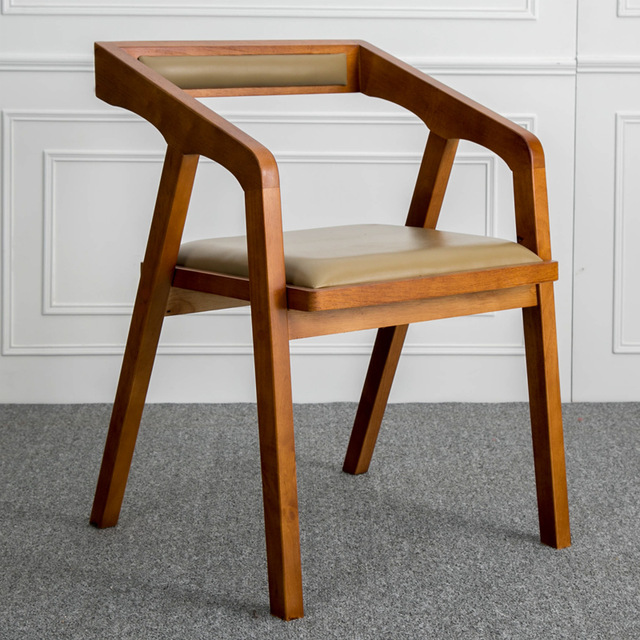chairs: (78, 36, 573, 628)
